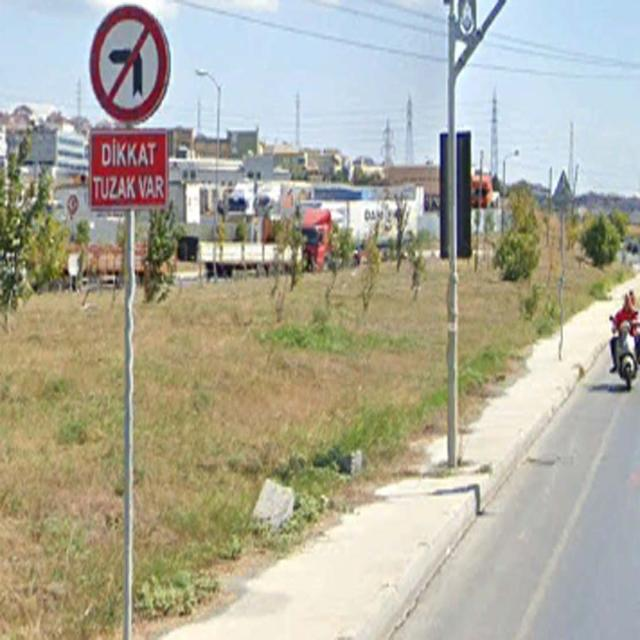soladonulmez: (88, 3, 169, 121)
